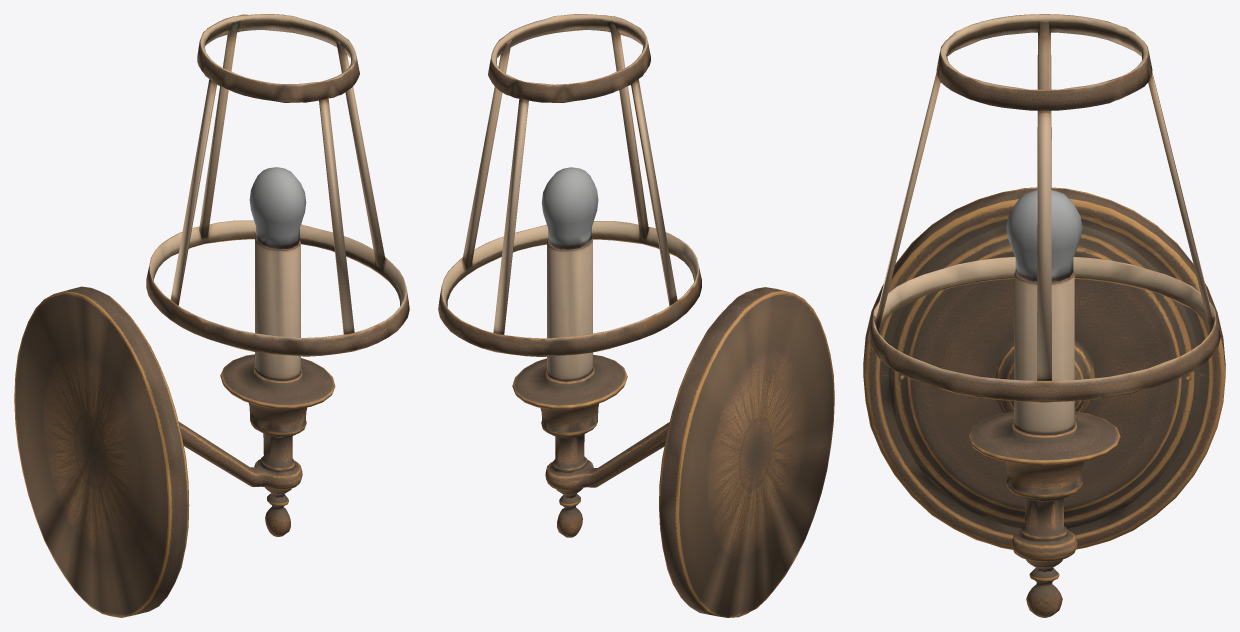
Rendered from lighting-wall-sconce.glb.
3 renders of one model, left to right at view 1: azimuth 30°, elevation 25°; view 2: azimuth 150°, elevation 25°; view 3: azimuth 270°, elevation 25°, orthographic. The views are drawn at different scales.
Visible parts, largest first — view 1: tripo_node_420f00ca-48c6-4c71-919f-565f4bfba235; view 2: tripo_node_420f00ca-48c6-4c71-919f-565f4bfba235; view 3: tripo_node_420f00ca-48c6-4c71-919f-565f4bfba235.
Part boxes in pixels (bbox=[...]): tripo_node_420f00ca-48c6-4c71-919f-565f4bfba235: bbox=[14, 14, 409, 617]; tripo_node_420f00ca-48c6-4c71-919f-565f4bfba235: bbox=[438, 14, 834, 617]; tripo_node_420f00ca-48c6-4c71-919f-565f4bfba235: bbox=[863, 14, 1225, 617].
Size of the model in its own units: 0.24 by 0.4 by 0.22.
Materials: 1 (1 with a texture image).
